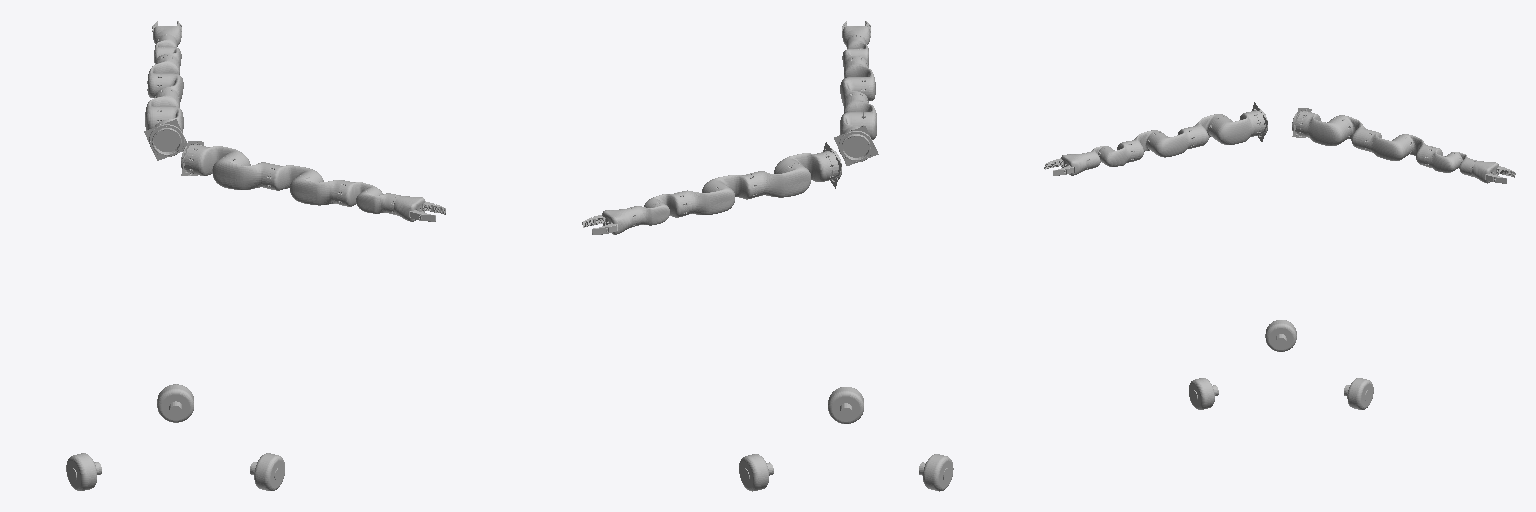
--- Facts derived from the render (not from the file) ---
Views: 3 orthographic renders of the robot side by side, from view 1: azimuth 30°, elevation 25°; view 2: azimuth 150°, elevation 25°; view 3: azimuth 270°, elevation 25°.
Robot: wust_robot — 27 links, 26 joints (18 revolute, 3 continuous, 5 fixed); root link base_dummy; default pose: all joints at 0.
Links seen in each view (by area): view 1: R_Link2, R_Link4, wheel_Link1, L_Link0, wheel_Link3, wheel_Link2, R_Link1, R_Link3, L_Link2, R_Link6, L_Link4, R_Link5 (+1 smaller); view 2: L_Link2, L_Link4, wheel_Link3, R_Link0, L_Link1, wheel_Link1, wheel_Link2, L_Link3, R_Link2, R_Link4, L_Link6, L_Link5 (+1 smaller); view 3: L_Link1, R_Link1, L_Link3, R_Link3, wheel_Link2, wheel_Link1, wheel_Link3, L_Link5, R_Link5, L_Link2, R_Link2.
Boxes of the visible links, box(x1,y1,x2,y2) form: R_Link2: box(212, 157, 275, 189); R_Link4: box(290, 176, 346, 205); wheel_Link1: box(157, 384, 193, 422); L_Link0: box(144, 119, 186, 160); wheel_Link3: box(250, 453, 284, 490); wheel_Link2: box(66, 453, 101, 490); R_Link1: box(191, 145, 250, 175); R_Link3: box(269, 165, 323, 190); L_Link2: box(145, 90, 179, 129); R_Link6: box(356, 191, 397, 214); L_Link4: box(147, 56, 179, 97); R_Link5: box(340, 181, 382, 206); L_Link2: box(748, 164, 810, 197); L_Link4: box(677, 186, 734, 215); wheel_Link3: box(828, 387, 863, 423); R_Link0: box(834, 126, 878, 165); L_Link1: box(774, 152, 831, 181); wheel_Link1: box(739, 454, 773, 491); wheel_Link2: box(919, 454, 953, 491); L_Link3: box(702, 174, 755, 199); R_Link2: box(844, 94, 876, 139); R_Link4: box(844, 59, 875, 100); L_Link6: box(629, 203, 669, 226); L_Link5: box(644, 193, 685, 217); L_Link1: box(1301, 112, 1349, 145); R_Link1: box(1210, 111, 1259, 144); L_Link3: box(1367, 131, 1411, 160); R_Link3: box(1149, 128, 1193, 157); wheel_Link2: box(1265, 320, 1296, 351); wheel_Link1: box(1344, 378, 1373, 409); wheel_Link3: box(1189, 378, 1218, 409); L_Link5: box(1427, 147, 1460, 172); R_Link5: box(1099, 141, 1132, 166); L_Link2: box(1334, 115, 1372, 150); R_Link2: box(1188, 114, 1226, 148).
Bounding box of the posed robot: 0.9283 × 1.88 × 1.26 m (x, y, z).
Meshes: 24 distinct files referenced, 23 mesh visuals loaded (23 binary STL); not drawn: 1 (reference not matched to a file when rendering).

robot.urdf — wust_robot:
<robot name="wust_robot" xmlns:xacro="http://www.ros.org/wiki/xacro">

  <!-- ros_control plugin -->
  <gazebo>
    <plugin name="gazebo_ros_control" filename="libgazebo_ros_control.so">
      <robotNamespace>/wust_robot</robotNamespace>
      <robotSimType>gazebo_ros_control/DefaultRobotHWSim</robotSimType>
      <legacyModeNS>true</legacyModeNS>
    </plugin>
  </gazebo>
  <!-- vision -->
  <link 
    name="base_dummy">
  </link>
  <joint
    name="dummy_fixed"
    type="fixed">
    <origin
      xyz="0 0 0"
      rpy="0 0 0" />
    <parent
      link="base_dummy" />
    <child
      link="base_link" />
    <axis
      xyz="0 0 0" />
  </joint>
  <link
    name="base_link">
    <inertial>
      <origin
        xyz="-0.282456057125086 -0.00267891878159933 0.622280941993128" 
        rpy="0 0 0" />
      <mass
        value="14.4253188556047" />
      <inertia
        ixx="3.4562626189094"
        ixy="0.000474831227952002"
        ixz="-0.0182515118714143"
        iyy="3.45013717269394"
        iyz="0.0116686710973834"
        izz="0.488384434703737" />
    </inertial>
    <visual>
      <origin
        xyz="0 0 0"
        rpy="0 0 0" />
      <geometry>
        <mesh
          filename="package://wust_robot_description/meshes/base_link.STL" />
      </geometry>
      <material
        name="">
        <color
          rgba="0.752941176470588 0.752941176470588 0.752941176470588 1" />
      </material>
    </visual>
    <collision>
      <origin
        xyz="0 0 0"
        rpy="0 0 0" />
      <geometry>
        <mesh
          filename="package://wust_robot_description/meshes/base_link.STL" />
      </geometry>
    </collision>
  </link>
  <link
    name="wheel_Link1">
    <inertial>
      <origin
        xyz="3.98208446772408E-09 -1.06505154695569E-09 -0.00320196573480336"
        rpy="0 0 0" />
      <mass
        value="20.784918417319531" />
      <inertia
        ixx="0.00103508205491259"
        ixy="-1.20506527899157E-09"
        ixz="-1.40770135890859E-11"
        iyy="0.00103511219307498"
        iyz="-1.29208313491843E-12"
        izz="0.00137479471522695" />
    </inertial>
    <visual>
      <origin
        xyz="0 0 0"
        rpy="0 0 0" />
      <geometry>
        <mesh
          filename="package://wust_robot_description/meshes/wheel_Link1.STL" />
      </geometry>
      <material
        name="">
        <color
          rgba="0.752941176470588 0.752941176470588 0.752941176470588 1" />
      </material>
    </visual>
    <collision>
      <origin
        xyz="0 0 0"
        rpy="0 0 0" />
      <geometry>
        <mesh
          filename="package://wust_robot_description/meshes/wheel_Link1.STL" />
      </geometry>
    </collision>
  </link>
  <joint
    name="wheel_joint1"
    type="continuous">
    <origin
      xyz="-0.103621086217595 0.316965297785102 0.0402"
      rpy="1.5707963267949 0 2.61799387799148" />
    <parent
      link="base_link" />
    <child
      link="wheel_Link1" />
    <axis
      xyz="0 0 1" />
  </joint>
  <link
    name="wheel_Link2">
    <inertial>
      <origin
        xyz="1.02918445724924E-12 -1.06505145675007E-09 -0.00320198442894559"
        rpy="0 0 0" />
      <mass
        value="20.784918417681748" />
      <inertia
        ixx="0.00103508209438553"
        ixy="-2.85682060113823E-09"
        ixz="1.1811141455231E-13"
        iyy="0.00103511223630421"
        iyz="-6.67148519845314E-12"
        izz="0.00137479472059587" />
    </inertial>
    <visual>
      <origin
        xyz="0 0 0"
        rpy="0 0 0" />
      <geometry>
        <mesh
          filename="package://wust_robot_description/meshes/wheel_Link2.STL" />
      </geometry>
      <material
        name="">
        <color
          rgba="0.752941176470588 0.752941176470588 0.752941176470588 1" />
      </material>
    </visual>
    <collision>
      <origin
        xyz="0 0 0"
        rpy="0 0 0" />
      <geometry>
        <mesh
          filename="package://wust_robot_description/meshes/wheel_Link2.STL" />
      </geometry>
    </collision>
  </link>
  <joint
    name="wheel_joint2"
    type="continuous">
    <origin
      xyz="-0.6526210862176 0 0.0402"
      rpy="1.5707963267949 7.49830360911069E-33 -1.57079632679489" />
    <parent
      link="base_link" />
    <child
      link="wheel_Link2" />
    <axis
      xyz="0 0 1" />
  </joint>
  <link
    name="wheel_Link3">
    <inertial>
      <origin
        xyz="-2.83100107245637E-09 -1.06505148450564E-09 -0.0032019617538914"
        rpy="0 0 0" />
      <mass
        value="20.784918417240751" />
      <inertia
        ixx="0.00103508206033524"
        ixy="-8.54796798950166E-10"
        ixz="9.34219235716564E-12"
        iyy="0.00103511220112508"
        iyz="-1.46548094469136E-13"
        izz="0.00137479471751099" />
    </inertial>
    <visual>
      <origin
        xyz="0 0 0"
        rpy="0 0 0" />
      <geometry>
        <mesh
          filename="package://wust_robot_description/meshes/wheel_Link3.STL" />
      </geometry>
      <material
        name="">
        <color
          rgba="0.752941176470588 0.752941176470588 0.752941176470588 1" />
      </material>
    </visual>
    <collision>
      <origin
        xyz="0 0 0"
        rpy="0 0 0" />
      <geometry>
        <mesh
          filename="package://wust_robot_description/meshes/wheel_Link3.STL" />
      </geometry>
    </collision>
  </link>
  <joint
    name="wheel_joint3"
    type="continuous">
    <origin
      xyz="-0.103621086217593 -0.316965297785103 0.0402"
      rpy="1.5707963267949 0 0.523598775598322" />
    <parent
      link="base_link" />
    <child
      link="wheel_Link3" />
    <axis
      xyz="0 0 -1" />
  </joint>
  <link
    name="L_Link0">
    <inertial>
      <origin
        xyz="0.705266187723226 -0.0627195193252027 -0.0503860551663762"
        rpy="0 0 0" />
      <mass
        value="44.8536262663904" />
      <inertia
        ixx="3.32145714603812"
        ixy="-0.742413466725483"
        ixz="0.341583244971493"
        iyy="11.1763395351522"
        iyz="-0.35531832839436"
        izz="10.7760237557026" />
    </inertial>
    <visual>
      <origin
        xyz="0 0 0"
        rpy="0 0 0" />
      <geometry>
        <mesh
          filename="package://wust_robot_description/meshes/L_Link0.STL" />
      </geometry>
      <material
        name="">
        <color
          rgba="0.752941176470588 0.752941176470588 0.752941176470588 1" />
      </material>
    </visual>
    <collision>
      <origin
        xyz="0 0 0"
        rpy="0 0 0" />
      <geometry>
        <mesh
          filename="package://wust_robot_description/meshes/L_Link0.STL" />
      </geometry>
    </collision>
  </link>
  <joint
    name="L_fixed"
    type="fixed">
    <origin
      xyz="-0.277216673276884 0.076446811665885 1.15429750765682"
      rpy="3.14159265358934 1.56054089882637 -2.09612569168172" />
    <parent
      link="base_link" />
    <child
      link="L_Link0" />
    <axis
      xyz="0 0 0" />
  </joint>
  <link
    name="L_Link1">
    <inertial>
      <origin
        xyz="-4.01597777859308E-05 -0.015653004325108 0.0601130386374143"
        rpy="0 0 0" />
      <mass
        value="0.225999459202375" />
      <inertia
        ixx="0.000855101108306438"
        ixy="1.28543240450215E-07"
        ixz="6.24868513140796E-07"
        iyy="0.000896245950407909"
        iyz="6.58582596095603E-05"
        izz="0.000416139417054559" />
    </inertial>
    <visual>
      <origin
        xyz="0 0 0"
        rpy="0 0 0" />
      <geometry>
        <mesh
          filename="package://wust_robot_description/meshes/L_Link1.STL" />
      </geometry>
      <material
        name="">
        <color
          rgba="0.752941176470588 0.752941176470588 0.752941176470588 1" />
      </material>
    </visual>
    <collision>
      <origin
        xyz="0 0 0"
        rpy="0 0 0" />
      <geometry>
        <mesh
          filename="package://wust_robot_description/meshes/L_Link1.STL" />
      </geometry>
    </collision>
  </link>
  <joint
    name="L_joint1"
    type="revolute">
    <origin
      xyz="0 0 0.0575"
      rpy="-3.6214E-14 -1.1852E-14 -8.874E-06" />
    <parent
      link="L_Link0" />
    <child
      link="L_Link1" />
    <axis
      xyz="0 0 1" />
    <limit
      lower="-3.05"
      upper="3.05"
      effort="90"
      velocity="1.31" />
  </joint>
  <link
    name="L_Link2">
    <inertial>
      <origin
        xyz="0.000857159054628465 -0.0688556150992958 -0.0219475431582306"
        rpy="0 0 0" />
      <mass
        value="0.211155173164178" />
      <inertia
        ixx="0.00099680616846942"
        ixy="7.35505061258559E-06"
        ixz="3.30420389247683E-06"
        iyy="0.000405576840374361"
        iyz="-0.000263492222121101"
        izz="0.000942075280953054" />
    </inertial>
    <visual>
      <origin
        xyz="0 0 0"
        rpy="0 0 0" />
      <geometry>
        <mesh
          filename="package://wust_robot_description/meshes/L_Link2.STL" />
      </geometry>
      <material
        name="">
        <color
          rgba="0.752941176470588 0.752941176470588 0.752941176470588 1" />
      </material>
    </visual>
    <collision>
      <origin
        xyz="0 0 0"
        rpy="0 0 0" />
      <geometry>
        <mesh
          filename="package://wust_robot_description/meshes/L_Link2.STL" />
      </geometry>
    </collision>
  </link>
  <joint
    name="L_joint2"
    type="revolute">
    <origin
      xyz="0.00020127 0.052 0.107"
      rpy="-1.5708 -0.0 -0.0" />
    <parent
      link="L_Link1" />
    <child
      link="L_Link2" />
    <axis
      xyz="0 0 1" />
    <limit
      lower="-2.09"
      upper="2.09"
      effort="90"
      velocity="1.31" />
  </joint>
  <link
    name="L_Link3">
    <inertial>
      <origin
        xyz="-0.000502019625280736 -0.0161731705290906 0.0585188339670352"
        rpy="0 0 0" />
      <mass
        value="0.17490126281718" />
      <inertia
        ixx="0.000566836297288879"
        ixy="1.50176831737645E-07"
        ixz="3.02203024327442E-07"
        iyy="0.000579069255779677"
        iyz="3.49864551490562E-05"
        izz="0.000240420030304234" />
    </inertial>
    <visual>
      <origin
        xyz="0 0 0"
        rpy="0 0 0" />
      <geometry>
        <mesh
          filename="package://wust_robot_description/meshes/L_Link3.STL" />
      </geometry>
      <material
        name="">
        <color
          rgba="0.752941176470588 0.752941176470588 0.752941176470588 1" />
      </material>
    </visual>
    <collision>
      <origin
        xyz="0 0 0"
        rpy="0 0 0" />
      <geometry>
        <mesh
          filename="package://wust_robot_description/meshes/L_Link3.STL" />
      </geometry>
    </collision>
  </link>
  <joint
    name="L_joint3"
    type="revolute">
    <origin
      xyz="0.0028116 -0.19068 -0.051998"
      rpy="1.5708 -0.00 0.0" />
    <parent
      link="L_Link2" />
    <child
      link="L_Link3" />
    <axis
      xyz="0 0 1" />
    <limit
      lower="-3.05"
      upper="3.05"
      effort="67"
      velocity="1.31" />
  </joint>
  <link
    name="L_Link4">
    <inertial>
      <origin
        xyz="0.000816124678452601 -0.0673789710997609 -0.0227669323131372"
        rpy="0 0 0" />
      <mass
        value="0.139141420083307" />
      <inertia
        ixx="0.00056729628586642"
        ixy="4.51473982393015E-06"
        ixz="1.91083305732679E-06"
        iyy="0.000225919086974947"
        iyz="-0.000151217366445457"
        izz="0.000540296323987622" />
    </inertial>
    <visual>
      <origin
        xyz="0 0 0"
        rpy="0 0 0" />
      <geometry>
        <mesh
          filename="package://wust_robot_description/meshes/L_Link4.STL" />
      </geometry>
      <material
        name="">
        <color
          rgba="0.752941176470588 0.752941176470588 0.752941176470588 1" />
      </material>
    </visual>
    <collision>
      <origin
        xyz="0 0 0"
        rpy="0 0 0" />
      <geometry>
        <mesh
          filename="package://wust_robot_description/meshes/L_Link4.STL" />
      </geometry>
    </collision>
  </link>
  <joint
    name="L_joint4"
    type="revolute">
    <origin
      xyz="-0.00023443 0.0497 0.1013"
      rpy="-1.5708 -0.0 -0.0" />
    <parent
      link="L_Link3" />
    <child
      link="L_Link4" />
    <axis
      xyz="0 0 1" />
    <limit
      lower="-2.09"
      upper="2.09"
      effort="67"
      velocity="1.31" />
  </joint>
  <link
    name="L_Link5">
    <inertial>
      <origin
        xyz="-4.29302225295469E-05 -0.0122054741831609 0.0309080414213873"
        rpy="0 0 0" />
      <mass
        value="0.0974186108051673" />
      <inertia
        ixx="0.000193993763249076"
        ixy="-1.08151386702443E-08"
        ixz="1.12865581638743E-07"
        iyy="0.000192392251466149"
        iyz="2.59299754635995E-05"
        izz="0.00011605204613654" />
    </inertial>
    <visual>
      <origin
        xyz="0 0 0"
        rpy="0 0 0" />
      <geometry>
        <mesh
          filename="package://wust_robot_description/meshes/L_Link5.STL" />
      </geometry>
      <material
        name="">
        <color
          rgba="0.752941176470588 0.752941176470588 0.752941176470588 1" />
      </material>
    </visual>
    <collision>
      <origin
        xyz="0 0 0"
        rpy="0 0 0" />
      <geometry>
        <mesh
          filename="package://wust_robot_description/meshes/L_Link5.STL" />
      </geometry>
    </collision>
  </link>
  <joint
    name="L_joint5"
    type="revolute">
    <origin
      xyz="0.0021781 -0.17419 -0.0497"
      rpy="1.5708 -0.00 0.0" />
    <parent
      link="L_Link4" />
    <child
      link="L_Link5" />
    <axis
      xyz="0 0 1" />
    <limit
      lower="-3.05"
      upper="3.05"
      effort="67"
      velocity="1.57" />
  </joint>
  <link
    name="L_Link6">
    <inertial>
      <origin
        xyz="0.000578002589833648 -0.0463011867222332 -0.0205916885454552"
        rpy="0 0 0" />
      <mass
        value="0.0709945582242612" />
      <inertia
        ixx="0.000150339550887913"
        ixy="9.87375759106794E-07"
        ixz="4.30166297877036E-07"
        iyy="6.97108294544225E-05"
        iyz="-3.5343957204107E-05"
        izz="0.000145966265729034" />
    </inertial>
    <visual>
      <origin
        xyz="0 0 0"
        rpy="0 0 0" />
      <geometry>
        <mesh
          filename="package://wust_robot_description/meshes/L_Link6.STL" />
      </geometry>
      <material
        name="">
        <color
          rgba="0.752941176470588 0.752941176470588 0.752941176470588 1" />
      </material>
    </visual>
    <collision>
      <origin
        xyz="0 0 0"
        rpy="0 0 0" />
      <geometry>
        <mesh
          filename="package://wust_robot_description/meshes/L_Link6.STL" />
      </geometry>
    </collision>
  </link>
  <joint
    name="L_joint6"
    type="revolute">
    <origin
      xyz="0.00013617 0.0351 0.0678"
      rpy="-1.5708 -0.0 -0.00" />
    <parent
      link="L_Link5" />
    <child
      link="L_Link6" />
    <axis
      xyz="0 0 1" />
    <limit
      lower="-2.09"
      upper="2.09"
      effort="67"
      velocity="1.57" />
  </joint>
  <link
    name="L_Link7">
    <inertial>
      <origin
        xyz="4.60523932026558E-05 8.96532549643503E-07 0.0214613080243776"
        rpy="0 0 0" />
      <mass
        value="0.069591475741743" />
      <inertia
        ixx="0.000100578251230889"
        ixy="-5.19958958347684E-08"
        ixz="-5.45711696598764E-08"
        iyy="8.85989894975445E-05"
        iyz="6.15630197980581E-09"
        izz="8.88086576481483E-05" />
    </inertial>
    <visual>
      <origin
        xyz="0 0 0"
        rpy="0 0 0" />
      <geometry>
        <mesh
          filename="package://wust_robot_description/meshes/L_Link7.STL" />
      </geometry>
      <material
        name="">
        <color
          rgba="0.752941176470588 0.752941176470588 0.752941176470588 1" />
      </material>
    </visual>
    <collision>
      <origin
        xyz="0 0 0"
        rpy="0 0 0" />
      <geometry>
        <mesh
          filename="package://wust_robot_description/meshes/L_Link7.STL" />
      </geometry>
    </collision>
  </link>
  <joint
    name="L_joint7"
    type="revolute">
    <origin
      xyz="0.0016142 -0.12909 -0.0351"
      rpy="1.5708 -0.00 0.0" />
    <parent
      link="L_Link6" />
    <child
      link="L_Link7" />
    <axis
      xyz="0 0 1" />
    <limit
      lower="-3.05"
      upper="3.05"
      effort="33"
      velocity="1.57" />
  </joint>
  <link
    name="L_ee" />
  <joint
    name="L_end_fixed"
    type="fixed">
    <origin
      xyz="0 0 0.105"
      rpy="0 0 0" />
    <parent
      link="L_Link7" />
    <child
      link="L_ee" />
    <axis
      xyz="0 0 0" />
  </joint>
  <link
    name="L_left_finger">
    <inertial>
      <origin
        xyz="0.0320300911336966 0.0191580149745619 1.65254374870916E-05"
        rpy="0 0 0" />
      <mass
        value="0.0222031203695293" />
      <inertia
        ixx="2.94895437947066E-06"
        ixy="-2.74026245995243E-06"
        ixz="3.48998944902299E-09"
        iyy="1.31997477985414E-05"
        iyz="-1.523937902794E-09"
        izz="1.31922323060758E-05" />
    </inertial>
    <visual>
      <origin
        xyz="0 0 0"
        rpy="0 0 0" />
      <geometry>
        <mesh
          filename="package://wust_robot_description/meshes/L_left_finger.STL" />
      </geometry>
      <material
        name="">
        <color
          rgba="0.752941176470588 0.752941176470588 0.752941176470588 1" />
      </material>
    </visual>
    <collision>
      <origin
        xyz="0 0 0"
        rpy="0 0 0" />
      <geometry>
        <mesh
          filename="package://wust_robot_description/meshes/L_left_finger.STL" />
      </geometry>
    </collision>
  </link>
  <joint
    name="L_left_joint"
    type="revolute">
    <origin
      xyz="0.00010863 0.028 0.0584"
      rpy="1.5708 -1.3107 -1.5747" />
    <parent
      link="L_Link7" />
    <child
      link="L_left_finger" />
    <axis
      xyz="0 0 1" />
    <limit
      lower="-0.36"
      upper="0.36"
      effort="33"
      velocity="1.57" />
  </joint>
  <link
    name="L_right_finger">
    <inertial>
      <origin
        xyz="0.0374350483372549 -0.000661225509474506 -1.65200352733041E-05"
        rpy="0 0 0" />
      <mass
        value="0.0222031598698606" />
      <inertia
        ixx="2.96928300709427E-06"
        ixy="-2.85846959892981E-06"
        ixz="-2.56668795513893E-09"
        iyy="1.31704010800968E-05"
        iyz="-2.8970724658086E-09"
        izz="1.31832096813533E-05" />
    </inertial>
    <visual>
      <origin
        xyz="0 0 0"
        rpy="0 0 0" />
      <geometry>
        <mesh
          filename="package://wust_robot_description/meshes/L_right_finger.STL" />
      </geometry>
      <material
        name="">
        <color
          rgba="0.752941176470588 0.752941176470588 0.752941176470588 1" />
      </material>
    </visual>
    <collision>
      <origin
        xyz="0 0 0"
        rpy="0 0 0" />
      <geometry>
        <mesh
          filename="package://wust_robot_description/meshes/L_right_finger.STL" />
      </geometry>
    </collision>
  </link>
  <joint
    name="L_right_joint"
    type="revolute">
    <origin
      xyz="-0.00010863 -0.028 0.0584"
      rpy="1.5708 -1.3107 -1.5747" />
    <parent
      link="L_Link7" />
    <child
      link="L_right_finger" />
    <axis
      xyz="0 0 1" />
    <limit
      lower="-0.36"
      upper="0.36"
      effort="33"
      velocity="1.57" />
  </joint>
  <link
    name="R_Link0">
    <inertial>
      <origin
        xyz="-0.705949828103567 -0.0617435709172465 -0.0519210672148267"
        rpy="0 0 0" />
      <mass
        value="44.8536262663904" />
      <inertia
        ixx="3.33720272867562"
        ixy="0.737896863784547"
        ixz="-0.500242330782589"
        iyy="11.1713307608221"
        iyz="-0.344327247077981"
        izz="10.7652869473953" />
    </inertial>
    <visual>
      <origin
        xyz="0 0 0"
        rpy="0 0 0" />
      <geometry>
        <mesh
          filename="package://wust_robot_description/meshes/R_Link0.STL" />
      </geometry>
      <material
        name="">
        <color
          rgba="0.752941176470588 0.752941176470588 0.752941176470588 1" />
      </material>
    </visual>
    <collision>
      <origin
        xyz="0 0 0"
        rpy="0 0 0" />
      <geometry>
        <mesh
          filename="package://wust_robot_description/meshes/R_Link0.STL" />
      </geometry>
    </collision>
  </link>
  <joint
    name="R_fixed"
    type="fixed">
    <origin
      xyz="-0.282475067184404 -0.0754489025211679 1.1559501936252"
      rpy="0 -1.56230906164837 2.09271386565402" />
    <parent
      link="base_link" />
    <child
      link="R_Link0" />
    <axis
      xyz="0 0 0" />
  </joint>
  <link
    name="R_Link1">
    <inertial>
      <origin
        xyz="-8.80730212726721E-05 -0.0156519826446752 0.0601157869098909"
        rpy="0 0 0" />
      <mass
        value="0.225988503121511" />
      <inertia
        ixx="0.000855056493906698"
        ixy="2.56076634162957E-07"
        ixz="8.29560067350113E-07"
        iyy="0.000896207358258187"
        iyz="6.58679338631613E-05"
        izz="0.000416131483281957" />
    </inertial>
    <visual>
      <origin
        xyz="0 0 0"
        rpy="0 0 0" />
      <geometry>
        <mesh
          filename="package://wust_robot_description/meshes/R_Link1.STL" />
      </geometry>
      <material
        name="">
        <color
          rgba="0.752941176470588 0.752941176470588 0.752941176470588 1" />
      </material>
    </visual>
    <collision>
      <origin
        xyz="0 0 0"
        rpy="0 0 0" />
      <geometry>
        <mesh
          filename="package://wust_robot_description/meshes/R_Link1.STL" />
      </geometry>
    </collision>
  </link>
  <joint
    name="R_joint1"
    type="revolute">
    <origin
      xyz="0 0 0.0675"
      rpy="5.0515E-14 7.1106E-15 4.2748E-16" />
    <parent
      link="R_Link0" />
    <child
      link="R_Link1" />
    <axis
      xyz="0 0 -1" />
    <limit
      lower="-3.05"
      upper="3.05"
      effort="90"
      velocity="1.31" />
  </joint>
  <link
    name="R_Link2">
    <inertial>
      <origin
        xyz="0.000855446580232622 -0.0688556657921777 -0.0219476027776705"
        rpy="0 0 0" />
      <mass
        value="0.211155390534304" />
      <inertia
        ixx="0.000996807167364456"
        ixy="7.34046811397431E-06"
        ixz="3.29819398216218E-06"
        iyy="0.00040557671982896"
        iyz="-0.000263492282504201"
        izz="0.000942075587938676" />
    </inertial>
    <visual>
      <origin
        xyz="0 0 0"
        rpy="0 0 0" />
      <geometry>
        <mesh
          filename="package://wust_robot_description/meshes/R_Link2.STL" />
      </geometry>
      <material
        name="">
        <color
          rgba="0.752941176470588 0.752941176470588 0.752941176470588 1" />
      </material>
    </visual>
    <collision>
      <origin
        xyz="0 0 0"
        rpy="0 0 0" />
      <geometry>
        <mesh
          filename="package://wust_robot_description/meshes/R_Link2.STL" />
      </geometry>
    </collision>
  </link>
  <joint
    name="R_joint2"
    type="revolute">
    <origin
      xyz="0.00036098 0.051999 0.107"
      rpy="-1.5708 -0.0 -0.00" />
    <parent
      link="R_Link1" />
    <child
      link="R_Link2" />
    <axis
      xyz="0 0 1" />
    <limit
      lower="-2.09"
      upper="2.09"
      effort="90"
      velocity="1.31" />
  </joint>
  <link
    name="R_Link3">
    <inertial>
      <origin
        xyz="-0.000124308636626935 -0.0161728550503237 0.0585188481364759"
        rpy="0 0 0" />
      <mass
        value="0.174901365038314" />
      <inertia
        ixx="0.000566837830675693"
        ixy="1.87641076312855E-07"
        ixz="4.09346511538344E-07"
        iyy="0.00057906863650209"
        iyz="3.49852208079504E-05"
        izz="0.000240420085764592" />
    </inertial>
    <visual>
      <origin
        xyz="0 0 0"
        rpy="0 0 0" />
      <geometry>
        <mesh
          filename="package://wust_robot_description/meshes/R_Link3.STL" />
      </geometry>
      <material
        name="">
        <color
          rgba="0.752941176470588 0.752941176470588 0.752941176470588 1" />
      </material>
    </visual>
    <collision>
      <origin
        xyz="0 0 0"
        rpy="0 0 0" />
      <geometry>
        <mesh
          filename="package://wust_robot_description/meshes/R_Link3.STL" />
      </geometry>
    </collision>
  </link>
  <joint
    name="R_joint3"
    type="revolute">
    <origin
      xyz="0.0023797 -0.19069 -0.052"
      rpy="1.5708 -0.000 0.00" />
    <parent
      link="R_Link2" />
    <child
      link="R_Link3" />
    <axis
      xyz="0 0 -1" />
    <limit
      lower="-3.05"
      upper="3.05"
      effort="67"
      velocity="1.31" />
  </joint>
  <link
    name="R_Link4">
    <inertial>
      <origin
        xyz="0.000814622172446322 -0.0673803573274671 -0.0227673778995151"
        rpy="0 0 0" />
      <mass
        value="0.139139841811024" />
      <inertia
        ixx="0.000567281709376824"
        ixy="4.50372009169932E-06"
        ixz="1.90649602099204E-06"
        iyy="0.000225916537752781"
        iyz="-0.000151211158915554"
        izz="0.000540282597292521" />
    </inertial>
    <visual>
      <origin
        xyz="0 0 0"
        rpy="0 0 0" />
      <geometry>
        <mesh
          filename="package://wust_robot_description/meshes/R_Link4.STL" />
      </geometry>
      <material
        name="">
        <color
          rgba="0.752941176470588 0.752941176470588 0.752941176470588 1" />
      </material>
    </visual>
    <collision>
      <origin
        xyz="0 0 0"
        rpy="0 0 0" />
      <geometry>
        <mesh
          filename="package://wust_robot_description/meshes/R_Link4.STL" />
      </geometry>
    </collision>
  </link>
  <joint
    name="R_joint4"
    type="revolute">
    <origin
      xyz="0.00034501 0.049699 0.1013"
      rpy="-1.5708 -0.0 -0.00" />
    <parent
      link="R_Link3" />
    <child
      link="R_Link4" />
    <axis
      xyz="0 0 1" />
    <limit
      lower="-2.09"
      upper="2.09"
      effort="67"
      velocity="1.31" />
  </joint>
  <link
    name="R_Link5">
    <inertial>
      <origin
        xyz="-8.04048459572826E-05 -0.0122051729745975 0.0309080270457396"
        rpy="0 0 0" />
      <mass
        value="0.0974186804244123" />
      <inertia
        ixx="0.000193994421900863"
        ixy="-1.48441435535215E-08"
        ixz="1.92065206689152E-07"
        iyy="0.000192391989673925"
        iyz="2.59297669656422E-05"
        izz="0.000116052397783966" />
    </inertial>
    <visual>
      <origin
        xyz="0 0 0"
        rpy="0 0 0" />
      <geometry>
        <mesh
          filename="package://wust_robot_description/meshes/R_Link5.STL" />
      </geometry>
      <material
        name="">
        <color
          rgba="0.752941176470588 0.752941176470588 0.752941176470588 1" />
      </material>
    </visual>
    <collision>
      <origin
        xyz="0 0 0"
        rpy="0 0 0" />
      <geometry>
        <mesh
          filename="package://wust_robot_description/meshes/R_Link5.STL" />
      </geometry>
    </collision>
  </link>
  <joint
    name="R_joint5"
    type="revolute">
    <origin
      xyz="0.0021738 -0.17419 -0.0497"
      rpy="1.5708 -0.00 0.0" />
    <parent
      link="R_Link4" />
    <child
      link="R_Link5" />
    <axis
      xyz="0 0 -1" />
    <limit
      lower="-3.05"
      upper="3.05"
      effort="67"
      velocity="1.57"/>
  </joint>
  <link
    name="R_Link6">
    <inertial>
      <origin
        xyz="0.00057688303394654 -0.0463012841468418 -0.0205917105833053"
        rpy="0 0 0" />
      <mass
        value="0.0709944248375274" />
      <inertia
        ixx="0.000150339079631084"
        ixy="9.85293191132637E-07"
        ixz="4.29279485125423E-07"
        iyy="6.97107575080967E-05"
        iyz="-3.53438629902347E-05"
        izz="0.000145965793514426" />
    </inertial>
    <visual>
      <origin
        xyz="0 0 0"
        rpy="0 0 0" />
      <geometry>
        <mesh
          filename="package://wust_robot_description/meshes/R_Link6.STL" />
      </geometry>
      <material
        name="">
        <color
          rgba="0.752941176470588 0.752941176470588 0.752941176470588 1" />
      </material>
    </visual>
    <collision>
      <origin
        xyz="0 0 0"
        rpy="0 0 0" />
      <geometry>
        <mesh
          filename="package://wust_robot_description/meshes/R_Link6.STL" />
      </geometry>
    </collision>
  </link>
  <joint
    name="R_joint6"
    type="revolute">
    <origin
      xyz="0.00024366 0.035099 0.0678"
      rpy="-1.5708 -0.0 -0.00" />
    <parent
      link="R_Link5" />
    <child
      link="R_Link6" />
    <axis
      xyz="0 0 1" />
    <limit
      lower="-2.09"
      upper="2.09"
      effort="67"
      velocity="1.57" />
  </joint>
  <link
    name="R_Link7">
    <inertial>
      <origin
        xyz="4.59025706534E-05 7.68261343486731E-07 0.0214611806756081"
        rpy="0 0 0" />
      <mass
        value="0.0695919740838392" />
      <inertia
        ixx="0.000100577880897543"
        ixy="-8.86467756941057E-08"
        ixz="-5.47756907756264E-08"
        iyy="8.85997556235195E-05"
        iyz="6.35168908512474E-09"
        izz="8.88089262054172E-05" />
    </inertial>
    <visual>
      <origin
        xyz="0 0 0"
        rpy="0 0 0" />
      <geometry>
        <mesh
          filename="package://wust_robot_description/meshes/R_Link7.STL" />
      </geometry>
      <material
        name="">
        <color
          rgba="0.752941176470588 0.752941176470588 0.752941176470588 1" />
      </material>
    </visual>
    <collision>
      <origin
        xyz="0 0 0"
        rpy="0 0 0" />
      <geometry>
        <mesh
          filename="package://wust_robot_description/meshes/R_Link7.STL" />
      </geometry>
    </collision>
  </link>
  <joint
    name="R_joint7"
    type="revolute">
    <origin
      xyz="0.001611 -0.12909 -0.0351"
      rpy="1.5708 -0.00 0.0" />
    <parent
      link="R_Link6" />
    <child
      link="R_Link7" />
    <axis
      xyz="0 0 -1" />
    <limit
      lower="-3.05"
      upper="3.05"
      effort="33"
      velocity="1.57" />
  </joint>
<link
    name="R_ee" />
  <joint
    name="R_end_fixed"
    type="fixed">
    <origin
      xyz="0 0 0.105"
      rpy="0 0 0" />
    <parent
      link="R_Link7" />
    <child
      link="R_ee" />
    <axis
      xyz="0 0 0" />
  </joint>
  <link
    name="R_left_finger">
    <inertial>
      <origin
        xyz="0.0260955520414758 0.0268485052033585 1.65200056947423E-05"
        rpy="0 0 0" />
      <mass
        value="0.0222031599135879" />
      <inertia
        ixx="5.17634121269431E-06"
        ixy="-5.08076804886169E-06"
        ixz="3.86266085033788E-09"
        iyy="1.09633428776348E-05"
        iyz="-2.46941553078193E-10"
        izz="1.31832096779791E-05" />
    </inertial>
    <visual>
      <origin
        xyz="0 0 0"
        rpy="0 0 0" />
      <geometry>
        <mesh
          filename="package://wust_robot_description/meshes/R_left_finger.STL" />
      </geometry>
      <material
        name="">
        <color
          rgba="0.752941176470588 0.752941176470588 0.752941176470588 1" />
      </material>
    </visual>
    <collision>
      <origin
        xyz="0 0 0"
        rpy="0 0 0" />
      <geometry>
        <mesh
          filename="package://wust_robot_description/meshes/R_left_finger.STL" />
      </geometry>
    </collision>
  </link>
  <joint
    name="R_left_joint"
    type="revolute">
    <origin
      xyz="-0.00019437 -0.027999 0.0584"
      rpy="1.5708 -1.0489 1.5639" />
    <parent
      link="R_Link7" />
    <child
      link="R_left_finger" />
    <axis
      xyz="0 0 1" />
    <limit
      lower="-0.36"
      upper="0.36"
      effort="33"
      velocity="1.57"  />
  </joint>
  <link
    name="R_right_finger">
    <inertial>
      <origin
        xyz="0.00900671737878619 -0.0361870762451453 -1.66044539418042E-05"
        rpy="0 0 0" />
      <mass
        value="0.0220974515411977" />
      <inertia
        ixx="1.08405524540199E-05"
        ixy="5.11180404952526E-06"
        ixz="-3.55147285863145E-09"
        iyy="5.2928488567163E-06"
        iyz="1.38783715682453E-09"
        izz="1.31808678174573E-05" />
    </inertial>
    <visual>
      <origin
        xyz="0 0 0"
        rpy="0 0 0" />
      <geometry>
        <mesh
          filename="package://wust_robot_description/meshes/R_right_finger.STL" />
      </geometry>
      <material
        name="">
        <color
          rgba="0.752941176470588 0.752941176470588 0.752941176470588 1" />
      </material>
    </visual>
    <collision>
      <origin
        xyz="0 0 0"
        rpy="0 0 0" />
      <geometry>
        <mesh
          filename="package://wust_robot_description/meshes/R_right_finger.STL" />
      </geometry>
    </collision>
  </link>
  <joint
    name="R_right_joint"
    type="revolute">
    <origin
      xyz="0.00019437 0.027999 0.0584"
      rpy="-1.5708 -0.52188 -1.5777" />
    <parent
      link="R_Link7" />
    <child
      link="R_right_finger" />
    <axis
      xyz="0 0 1" />
    <limit
      lower="-0.36"
      upper="0.36"
      effort="33"
      velocity="1.57"  />
  </joint>

<!--transmission-->
  <transmission name="tran1">
    <type>transmission_interface/SimpleTransmission</type>
    <joint name="L_joint1">
      <hardwareInterface>hardware_interface/PositionJointInterface</hardwareInterface>
    </joint>
    <actuator name="motor1">
      <hardwareInterface>PositionJointInterface</hardwareInterface>
      <mechanicalReduction>1</mechanicalReduction>
    </actuator>
  </transmission>
  <transmission name="tran2">
    <type>transmission_interface/SimpleTransmission</type>
    <joint name="L_joint2">
      <hardwareInterface>hardware_interface/PositionJointInterface</hardwareInterface>
    </joint>
    <actuator name="motor2">
      <hardwareInterface>PositionJointInterface</hardwareInterface>
      <mechanicalReduction>1</mechanicalReduction>
    </actuator>
  </transmission>
  <transmission name="tran3">
    <type>transmission_interface/SimpleTransmission</type>
    <joint name="L_joint3">
      <hardwareInterface>hardware_interface/PositionJointInterface</hardwareInterface>
    </joint>
    <actuator name="motor3">
      <hardwareInterface>PositionJointInterface</hardwareInterface>
      <mechanicalReduction>1</mechanicalReduction>
    </actuator>
  </transmission>
  <transmission name="tran4">
    <type>transmission_interface/SimpleTransmission</type>
    <joint name="L_joint4">
      <hardwareInterface>hardware_interface/PositionJointInterface</hardwareInterface>
    </joint>
    <actuator name="motor4">
      <hardwareInterface>PositionJointInterface</hardwareInterface>
      <mechanicalReduction>1</mechanicalReduction>
    </actuator>
  </transmission>
  <transmission name="tran5">
    <type>transmission_interface/SimpleTransmission</type>
    <joint name="L_joint5">
      <hardwareInterface>hardware_interface/PositionJointInterface</hardwareInterface>
    </joint>
    <actuator name="motor5">
      <hardwareInterface>PositionJointInterface</hardwareInterface>
      <mechanicalReduction>1</mechanicalReduction>
    </actuator>
  </transmission>
  <transmission name="tran6">
    <type>transmission_interface/SimpleTransmission</type>
    <joint name="L_joint6">
      <hardwareInterface>hardware_interface/PositionJointInterface</hardwareInterface>
    </joint>
    <actuator name="motor6">
      <hardwareInterface>PositionJointInterface</hardwareInterface>
      <mechanicalReduction>1</mechanicalReduction>
    </actuator>
  </transmission>
  <transmission name="tran7">
    <type>transmission_interface/SimpleTransmission</type>
    <joint name="L_joint7">
      <hardwareInterface>hardware_interface/PositionJointInterface</hardwareInterface>
    </joint>
    <actuator name="motor7">
      <hardwareInterface>PositionJointInterface</hardwareInterface>
      <mechanicalReduction>1</mechanicalReduction>
    </actuator>
  </transmission>
  <transmission name="tran15">
    <type>transmission_interface/SimpleTransmission</type>
    <joint name="L_left_joint">
      <hardwareInterface>hardware_interface/PositionJointInterface</hardwareInterface>
    </joint>
    <actuator name="motor15">
      <hardwareInterface>PositionJointInterface</hardwareInterface>
      <mechanicalReduction>1</mechanicalReduction>
    </actuator>
  </transmission>
  <transmission name="tran16">
    <type>transmission_interface/SimpleTransmission</type>
    <joint name="L_right_joint">
      <hardwareInterface>hardware_interface/PositionJointInterface</hardwareInterface>
    </joint>
    <actuator name="motor16">
      <hardwareInterface>PositionJointInterface</hardwareInterface>
      <mechanicalReduction>1</mechanicalReduction>
    </actuator>
  </transmission>
  
  <transmission name="tran8">
    <type>transmission_interface/SimpleTransmission</type>
    <joint name="R_joint1">
      <hardwareInterface>hardware_interface/PositionJointInterface</hardwareInterface>
    </joint>
    <actuator name="motor8">
      <hardwareInterface>PositionJointInterface</hardwareInterface>
      <mechanicalReduction>1</mechanicalReduction>
    </actuator>
  </transmission>
  <transmission name="tran9">
    <type>transmission_interface/SimpleTransmission</type>
    <joint name="R_joint2">
      <hardwareInterface>hardware_interface/PositionJointInterface</hardwareInterface>
    </joint>
    <actuator name="motor9">
      <hardwareInterface>PositionJointInterface</hardwareInterface>
      <mechanicalReduction>1</mechanicalReduction>
    </actuator>
  </transmission>
  <transmission name="tran10">
    <type>transmission_interface/SimpleTransmission</type>
    <joint name="R_joint3">
      <hardwareInterface>hardware_interface/PositionJointInterface</hardwareInterface>
    </joint>
    <actuator name="motor10">
      <hardwareInterface>PositionJointInterface</hardwareInterface>
      <mechanicalReduction>1</mechanicalReduction>
    </actuator>
  </transmission>
  <transmission name="tran11">
    <type>transmission_interface/SimpleTransmission</type>
    <joint name="R_joint4">
      <hardwareInterface>hardware_interface/PositionJointInterface</hardwareInterface>
    </joint>
    <actuator name="motor11">
      <hardwareInterface>PositionJointInterface</hardwareInterface>
      <mechanicalReduction>1</mechanicalReduction>
    </actuator>
  </transmission>
  <transmission name="tran12">
    <type>transmission_interface/SimpleTransmission</type>
    <joint name="R_joint5">
      <hardwareInterface>hardware_interface/PositionJointInterface</hardwareInterface>
    </joint>
    <actuator name="motor12">
      <hardwareInterface>PositionJointInterface</hardwareInterface>
      <mechanicalReduction>1</mechanicalReduction>
    </actuator>
  </transmission>
  <transmission name="tran13">
    <type>transmission_interface/SimpleTransmission</type>
    <joint name="R_joint6">
      <hardwareInterface>hardware_interface/PositionJointInterface</hardwareInterface>
    </joint>
    <actuator name="motor13">
      <hardwareInterface>PositionJointInterface</hardwareInterface>
      <mechanicalReduction>1</mechanicalReduction>
    </actuator>
  </transmission>
  <transmission name="tran14">
    <type>transmission_interface/SimpleTransmission</type>
    <joint name="R_joint7">
      <hardwareInterface>hardware_interface/PositionJointInterface</hardwareInterface>
    </joint>
    <actuator name="motor14">
      <hardwareInterface>PositionJointInterface</hardwareInterface>
      <mechanicalReduction>1</mechanicalReduction>
    </actuator>
  </transmission>
  <transmission name="tran17">
    <type>transmission_interface/SimpleTransmission</type>
    <joint name="R_left_joint">
      <hardwareInterface>hardware_interface/PositionJointInterface</hardwareInterface>
    </joint>
    <actuator name="motor17">
      <hardwareInterface>PositionJointInterface</hardwareInterface>
      <mechanicalReduction>1</mechanicalReduction>
    </actuator>
  </transmission>
  <transmission name="tran18">
    <type>transmission_interface/SimpleTransmission</type>
    <joint name="R_right_joint">
      <hardwareInterface>hardware_interface/PositionJointInterface</hardwareInterface>
    </joint>
    <actuator name="motor18">
      <hardwareInterface>PositionJointInterface</hardwareInterface>
      <mechanicalReduction>1</mechanicalReduction>
    </actuator>
  </transmission>

<gazebo reference="base_link">
  <visual name="gazeboo_color_base_link">
    <material>
      <script>
        <uri>file://media/materials/scripts/gazebo.material</uri>
        <name>Gazebo/Grey</name>
      </script>
    </material>
  </visual>
</gazebo>

<gazebo reference="L_Link0">
  <visual name="gazebo_color_Link7">
    <material>
      <ambient>0.792156862745098 0.819607843137255 0.933333333333333 1</ambient>
      <diffuse>0.792156862745098 0.819607843137255 0.933333333333333 1</diffuse>
      <specular>0.1 0.1 0.1 1</specular>
      <emissive>0 0 0 0</emissive>
    </material>
  </visual>
</gazebo>

<gazebo reference="L_Link1">
  <visual name="gazebo_color_Link1">
    <material>
      <script>
        <uri>file://media/materials/scripts/gazebo.material</uri>
        <name>Gazebo/FlatBlack</name>
      </script>
    </material>
  </visual>
</gazebo>

<gazebo reference="L_Link2">
  <visual name="gazebo_color_Link2">
    <material>
      <script>
        <uri>file://media/materials/scripts/gazebo.material</uri>
        <name>Gazebo/FlatBlack</name>
      </script>
    </material>
  </visual>
</gazebo>

<gazebo reference="L_Link3">
  <visual name="gazebo_color_Link3">
    <material>
      <script>
        <uri>file://media/materials/scripts/gazebo.material</uri>
        <name>Gazebo/FlatBlack</name>
      </script>
    </material>
   </visual>
</gazebo>

<gazebo reference="L_Link4">
  <visual name="gazebo_color_Link4">
    <material>
      <script>
        <uri>file://media/materials/scripts/gazebo.material</uri>
        <name>Gazebo/FlatBlack</name>
      </script>
    </material>
  </visual>
</gazebo>

<gazebo reference="L_Link5">
  <visual name="gazebo_color_Link5">
    <material>
      <script>
        <uri>file://media/materials/scripts/gazebo.material</uri>
        <name>Gazebo/FlatBlack</name>
      </script>
    </material>
  </visual>
</gazebo>

<gazebo reference="L_Link6">
  <visual name="gazebo_color_Link6">
    <material>
      <script>
        <uri>file://media/materials/scripts/gazebo.material</uri>
        <name>Gazebo/FlatBlack</name>
      </script>
    </material>
  </visual>
</gazebo>

<gazebo reference="L_Link7">
  <visual name="gazebo_color_Link7">
    <material>
      <ambient>0.792156862745098 0.819607843137255 0.933333333333333 1</ambient>
      <diffuse>0.792156862745098 0.819607843137255 0.933333333333333 1</diffuse>
      <specular>0.1 0.1 0.1 1</specular>
      <emissive>0 0 0 0</emissive>
    </material>
  </visual>
  <implicitSpringDamper>1</implicitSpringDamper>
  <kp>100000000.0</kp>
  <kd>1.0</kd>
  <mu1>200</mu1>
  <mu2>200</mu2>
  <maxVel>0.1</maxVel>
  <minDepth>0.010</minDepth>
</gazebo>

<gazebo reference="L_left_finger">
  <visual name="gazebo_color_left_gripper">
    <material>
      <ambient>0.792156862745098 0.819607843137255 0.933333333333333 1</ambient>
      <diffuse>0.792156862745098 0.819607843137255 0.933333333333333 1</diffuse>
      <specular>0.1 0.1 0.1 1</specular>
      <emissive>0 0 0 0</emissive>
    </material>
  </visual>
  <implicitSpringDamper>1</implicitSpringDamper>
  <kp>100000000.0</kp>
  <kd>1.0</kd>
  <mu1>200</mu1>
  <mu2>200</mu2>
  <maxVel>0.1</maxVel>
  <minDepth>0.010</minDepth>
</gazebo>

<gazebo reference="L_right_finger">
  <visual name="gazebo_color_right_gripper">
    <material>
      <ambient>0.792156862745098 0.819607843137255 0.933333333333333 1</ambient>
      <diffuse>0.792156862745098 0.819607843137255 0.933333333333333 1</diffuse>
      <specular>0.1 0.1 0.1 1</specular>
      <emissive>0 0 0 0</emissive>
    </material>
  </visual>
  <implicitSpringDamper>1</implicitSpringDamper>
  <kp>100000000.0</kp>
  <kd>1.0</kd>
  <mu1>200</mu1>
  <mu2>200</mu2>
  <maxVel>0.1</maxVel>
  <minDepth>0.010</minDepth>
</gazebo>

<gazebo reference="R_Link0">
   <visual name="gazebo_color_Link7">
    <material>
      <ambient>0.792156862745098 0.819607843137255 0.933333333333333 1</ambient>
      <diffuse>0.792156862745098 0.819607843137255 0.933333333333333 1</diffuse>
      <specular>0.1 0.1 0.1 1</specular>
      <emissive>0 0 0 0</emissive>
    </material>
  </visual>
</gazebo>


<gazebo reference="R_Link1">
  <visual name="gazebo_color_R_Link1">
    <material>
      <script>
        <uri>file://media/materials/scripts/gazebo.material</uri>
        <name>Gazebo/FlatBlack</name>
      </script>
    </material>
  </visual>
</gazebo>

<gazebo reference="R_Link2">
  <visual name="gazebo_color_R_Link2">
    <material>
      <script>
        <uri>file://media/materials/scripts/gazebo.material</uri>
        <name>Gazebo/FlatBlack</name>
      </script>
    </material>
  </visual>
</gazebo>

<gazebo reference="R_Link3">
  <visual name="gazebo_color_R_Link3">
    <material>
      <script>
        <uri>file://media/materials/scripts/gazebo.material</uri>
        <name>Gazebo/FlatBlack</name>
      </script>
    </material>
   </visual>
</gazebo>

<gazebo reference="R_Link4">
  <visual name="gazebo_color_R_Link4">
    <material>
      <script>
        <uri>file://media/materials/scripts/gazebo.material</uri>
        <name>Gazebo/FlatBlack</name>
      </script>
    </material>
  </visual>
</gazebo>

<gazebo reference="R_Link5">
  <visual name="gazebo_color_R_Link5">
    <material>
      <script>
        <uri>file://media/materials/scripts/gazebo.material</uri>
        <name>Gazebo/FlatBlack</name>
      </script>
    </material>
  </visual>
</gazebo>

<gazebo reference="R_Link6">
  <visual name="gazebo_color_R_Link6">
    <material>
      <script>
        <uri>file://media/materials/scripts/gazebo.material</uri>
        <name>Gazebo/FlatBlack</name>
      </script>
    </material>
  </visual>
</gazebo>

<gazebo reference="R_Link7">
  <visual name="gazebo_color_R_Link7">
    <material>
      <ambient>0.792156862745098 0.819607843137255 0.933333333333333 1</ambient>
      <diffuse>0.792156862745098 0.819607843137255 0.933333333333333 1</diffuse>
      <specular>0.1 0.1 0.1 1</specular>
      <emissive>0 0 0 0</emissive>
    </material>
  </visual>
  <implicitSpringDamper>1</implicitSpringDamper>
  <kp>100000000.0</kp>
  <kd>1.0</kd>
  <mu1>200</mu1>
  <mu2>200</mu2>
  <maxVel>1.0</maxVel>
  <minDepth>0.010</minDepth>
</gazebo>

<gazebo reference="R_left_finger">
  <visual name="gazebo_color_R_left_gripper">
    <material>
      <ambient>0.792156862745098 0.819607843137255 0.933333333333333 1</ambient>
      <diffuse>0.792156862745098 0.819607843137255 0.933333333333333 1</diffuse>
      <specular>0.1 0.1 0.1 1</specular>
      <emissive>0 0 0 0</emissive>
    </material>
  </visual>
  <implicitSpringDamper>1</implicitSpringDamper>
  <kp>100000000.0</kp>
  <kd>1.0</kd>
  <mu1>200</mu1>
  <mu2>200</mu2>
  <maxVel>0.1</maxVel>
  <minDepth>0.010</minDepth>
</gazebo>

<gazebo reference="R_right_finger">
  <visual name="gazebo_color_R_right_gripper">
    <material>
      <ambient>0.792156862745098 0.819607843137255 0.933333333333333 1</ambient>
      <diffuse>0.792156862745098 0.819607843137255 0.933333333333333 1</diffuse>
      <specular>0.1 0.1 0.1 1</specular>
      <emissive>0 0 0 0</emissive>
    </material>
  </visual>
  <implicitSpringDamper>1</implicitSpringDamper>
  <kp>100000000.0</kp>
  <kd>1.0</kd>
  <mu1>200</mu1>
  <mu2>200</mu2>
  <maxVel>0.1</maxVel>
  <minDepth>0.010</minDepth>
</gazebo>

<gazebo>
  <plugin name="gazebo_grasp_fix_1eft" filename="libgazebo_grasp_fix.so">
    <arm>
        <arm_name>left_arm</arm_name>
        <palm_link>L_Link7</palm_link>
        <gripper_link>L_left_finger</gripper_link>
        <gripper_link>L_right_finger</gripper_link>
    </arm>
    <arm>
        <arm_name>right_arm</arm_name>
        <palm_link>R_Link7</palm_link>
        <gripper_link>R_left_finger</gripper_link>
        <gripper_link>R_right_finger</gripper_link>
    </arm>
    <forces_angle_tolerance>100</forces_angle_tolerance>
    <update_rate>4</update_rate>
    <grip_count_threshold>4</grip_count_threshold>
    <max_grip_count>8</max_grip_count>
    <release_tolerance>0.003</release_tolerance>
    <disable_collisions_on_attach>false</disable_collisions_on_attach>
    <contact_topic>__default_topic__</contact_topic>
  </plugin>
</gazebo>

 <gazebo>
    <plugin filename="libgazebo_ros_planar_move.so" name="mpo_500_controller">
      <commandTopic>cmd_vel</commandTopic>
      <leftFrontJoint>wheel_joint1</leftFrontJoint>
      <rightFrontJoint>wheel_joint2</rightFrontJoint>
      <leftRearJoint>wheel_joint3</leftRearJoint>
      <odometryTopic>odom</odometryTopic>
      <odometryFrame>odom</odometryFrame>
      <odometryRate>20.0</odometryRate>
      <robotBaseFrame>base_dummy</robotBaseFrame>
    </plugin>
 </gazebo>
 </robot>
 <!--<joint name="camera_joint" type="fixed">
        <origin xyz="0.3 0 0.7" rpy="0 1.57 0"/>
        <parent link="base_link"/>
        <child link="camera_link"/>
   </joint>
  

   <link name="camera_link">
       <collision>
           <origin xyz="0 0 0" rpy="0 0 0"/>
           <geometry>
           <mesh filename="package://wust_robot_description/meshes/camera.STL" />
           </geometry>
       </collision> 

       <visual>
           <origin xyz="-0.8 0 0" rpy="-1.57 0 -1.57"/>
           <geometry>
           <mesh filename="package://wust_robot_description/meshes/camera.STL" />
           </geometry>
           <material name="red"/>
       </visual>

       <inertial>
        <mass value="0.00001" />
        <origin xyz="0 0 0" />
        <inertia ixx="1.0" ixy="0.0" ixz="0.0"
          iyy="1.0" iyz="0.0"
          izz="1.0" />
       </inertial>
   </link>


  <gazebo reference="camera_link">
    <material>Gazebo/Red</material>

    <sensor type="camera" name="camera">
      <update_rate>30.0</update_rate>
      <camera name="head">
        <horizontal_fov>1.3</horizontal_fov>
        < <horizontal_fov>0.95</horizontal_fov> >
        <image>
          <width>800</width>
          <height>800</height>
          <format>R8G8B8</format>
        </image>
        <clip>
          <near>0.02</near>
          <far>300</far>
        </clip>
        <noise>
          <type>gaussian</type>

          <mean>0.0</mean>
          <stddev>0.007</stddev>
        </noise>
      </camera>
      <plugin name="camera_controller" filename="libgazebo_ros_camera.so">
        <alwaysOn>true</alwaysOn>
        <updateRate>0.0</updateRate>
        <cameraName>wust_robot/camera</cameraName>
        <imageTopicName>image_raw</imageTopicName>
        <cameraInfoTopicName>camera_info</cameraInfoTopicName>
        <frameName>camera_link</frameName>
        <hackBaseline>0.07</hackBaseline>
        <distortionK1>0.0</distortionK1>
        <distortionK2>0.0</distortionK2>
        <distortionK3>0.0</distortionK3>
        <distortionT1>0.0</distortionT1>
        <distortionT2>0.0</distortionT2>
      </plugin>
    </sensor>
 </gazebo>
 
 </robot>-->
